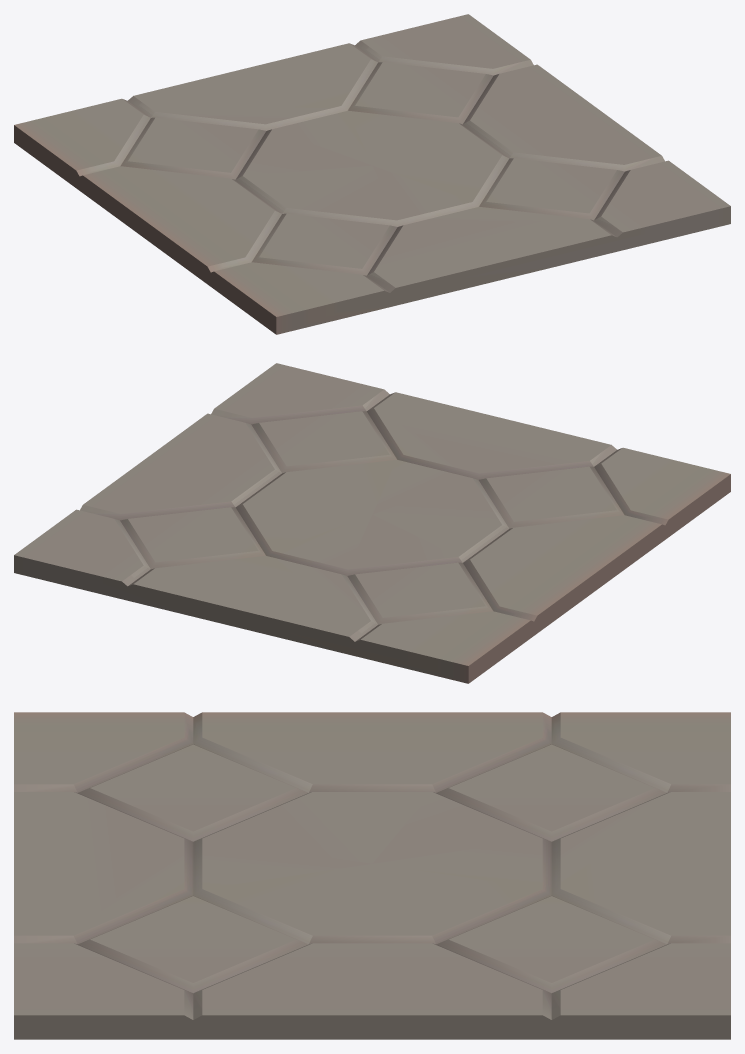
Rendered from floor_tile_large.glb.
The picture shows the model from 3 angles, top to bottom: view 1: azimuth 30°, elevation 25°; view 2: azimuth 150°, elevation 25°; view 3: azimuth 270°, elevation 25°; orthographic projection. The views are drawn at different scales.
Visible parts, largest first — view 1: floor_tile_large; view 2: floor_tile_large; view 3: floor_tile_large.
Boxes of the visible parts, bbox=[...] form: floor_tile_large: bbox=[14, 14, 730, 334]; floor_tile_large: bbox=[14, 363, 730, 683]; floor_tile_large: bbox=[14, 712, 730, 1039].
Size of the model in its own units: 4 by 0.15 by 4.
1 material, 1 textured.
